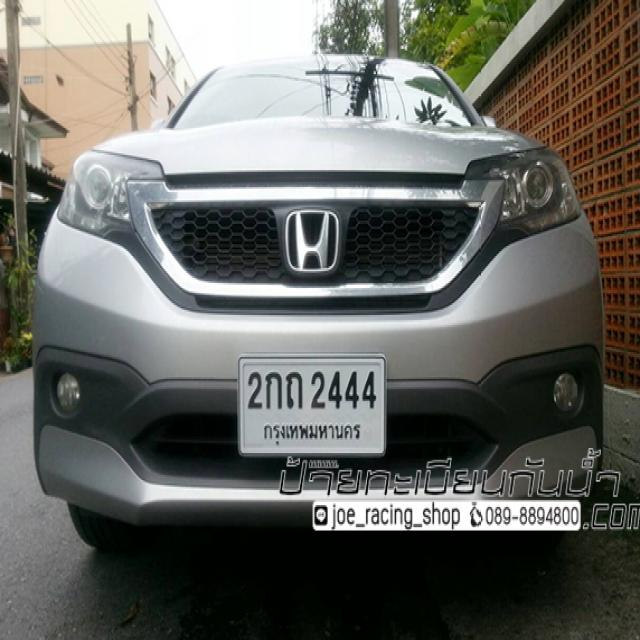license_plate: (238, 355, 388, 455)
